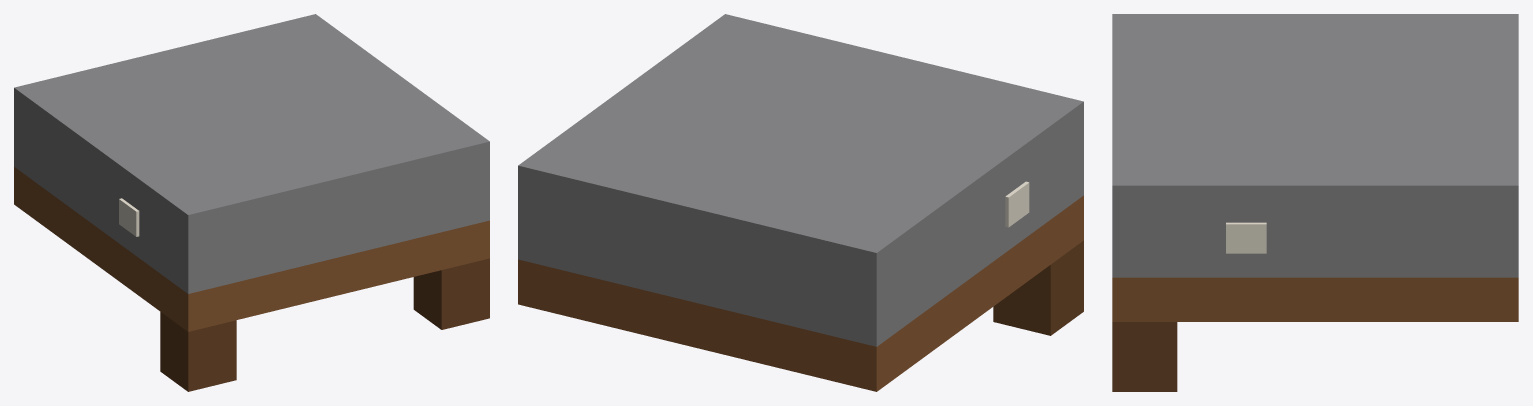
The model's file is bed_gray_foot.glb.
3 views of the same model, side by side, from view 1: azimuth 30°, elevation 25°; view 2: azimuth 150°, elevation 25°; view 3: azimuth 270°, elevation 25° (orthographic). The views are drawn at different scales.
Visible parts, largest first — view 1: body; view 2: body; view 3: body.
Boxes of the visible parts, x1,y1,x2,y2 form: body: (14,14,489,391); body: (518,14,1083,391); body: (1112,14,1518,391).
Size of the model in its own units: 1.02 by 0.56 by 1.
